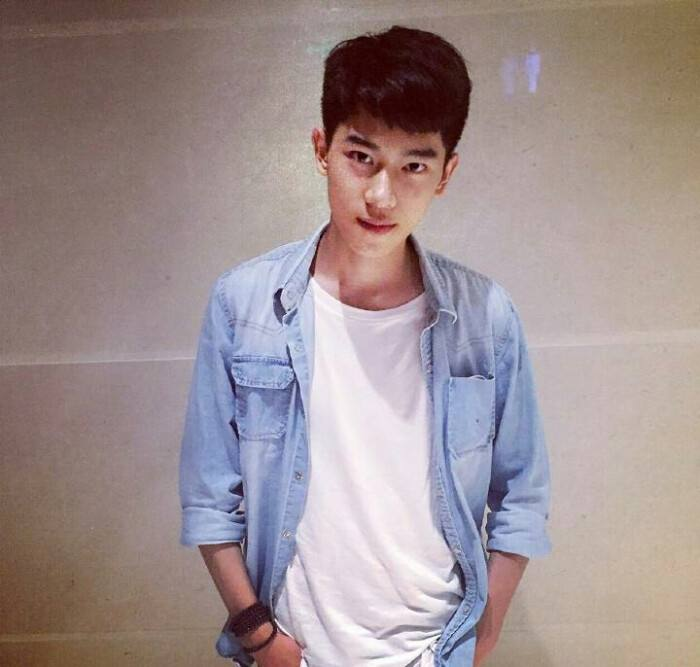person: (175, 35, 554, 667)
